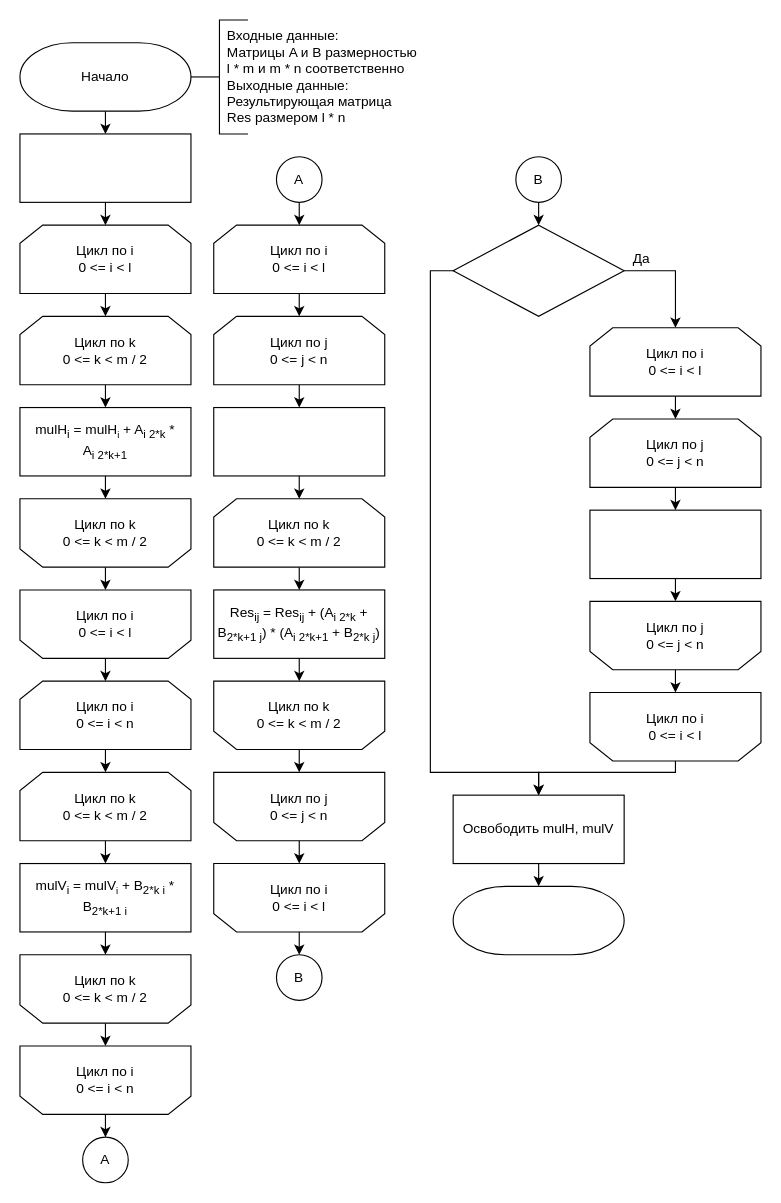
Image size: 781x1203. Some labels were removed from this diagram. Each missing label, with the centre of its shape:
m % 2 == 1: (538,270)
Res ij += A i m-1 * B m-1 j: (675,544)
Res ij = -mulH i - mulV j: (299,441)
Аллоцировать Res, mulH размером l, mulV размером n: (105,167)
Конец: (538,920)
